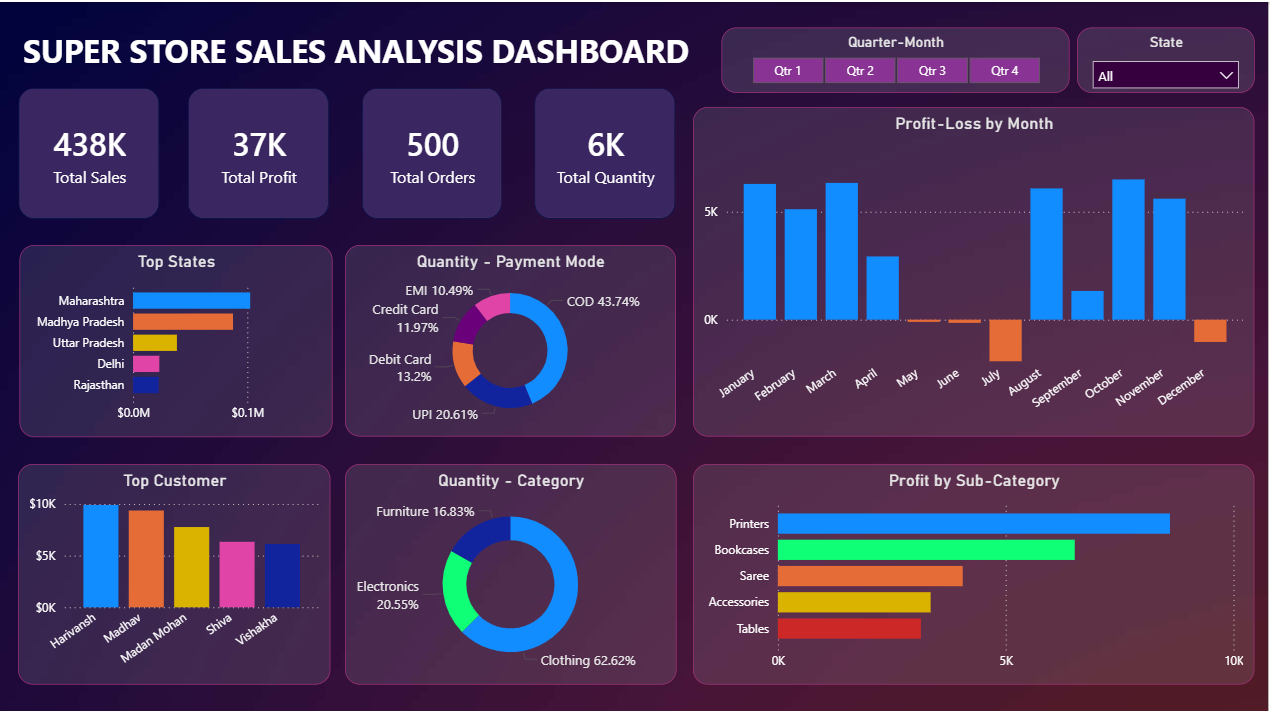

The dashboard page shown, as its layout file describes it:
{"tool":"powerbi","page":{"name":"Page 1","canvas":[1280,720],"ordinal":0},"visuals":[{"type":"columnChart","title":"Profit-Loss by Month","fields":{"Y":["Sum(Details.Profit)"],"Category":["Orders.Order Date.Variation.Date Hierarchy.Month"]},"box":[699.2,105.8,566.9,332.6],"z":0},{"type":"barChart","title":"Profit by Sub-Category","fields":{"Category":["Details.Sub-Category"],"Y":["Sum(Details.Profit)"]},"box":[699.2,466.8,566.9,223],"z":1000},{"type":"donutChart","title":"Quantity - Category","fields":{"Category":["Details.Category"],"Y":["Sum(Details.Quantity)"]},"box":[347.7,466.8,334.5,223],"z":2000},{"type":"donutChart","title":"Quantity - Payment Mode","fields":{"Y":["Sum(Details.Quantity)"],"Category":["Details.PaymentMode"]},"box":[348,245,334,193],"z":3000},{"type":"cardVisual","fields":{"Data":["Details.Total Sales"]},"box":[1,70,176,166],"z":4000},{"type":"cardVisual","fields":{"Data":["Details.Total Profit"]},"box":[172,70,176,166],"z":5000},{"type":"cardVisual","fields":{"Data":["Details.Total Orders"]},"box":[348,70,175,166],"z":6000},{"type":"cardVisual","fields":{"Data":["Details.Total Quantity"]},"box":[523,70,176,166],"z":7000},{"type":"barChart","title":"Top States","fields":{"Category":["Orders.State"],"Y":["Sum(Details.Amount)"]},"box":[19,245,316,194],"z":8000},{"type":"clusteredColumnChart","title":"Top Customer","fields":{"Category":["Orders.CustomerName"],"Y":["Sum(Details.Amount)"]},"box":[18.9,466.8,315.6,223],"z":9000},{"type":"textbox","box":[18.9,13.2,708.7,79.4],"z":10000},{"type":"slicer","title":"Quarter-Month","fields":{"Values":["Orders.Order Date.Variation.Date Hierarchy.Quarter"]},"box":[728,26,351,66],"z":11000},{"type":"slicer","title":"State","fields":{"Values":["Orders.State"]},"box":[1087,26,179,66],"z":12000}]}

Visuals, with their boxes in screenshot pixels (x1, y1, x2, y2), scaled from the page's 1280x720 canvas onto the 1270x711 screenshot:
"Profit-Loss by Month" columnChart: (694, 104, 1256, 433)
"Profit by Sub-Category" barChart: (694, 461, 1256, 681)
"Quantity - Category" donutChart: (345, 461, 677, 681)
"Quantity - Payment Mode" donutChart: (345, 242, 677, 433)
cardVisual - Details.Total Sales: (1, 69, 176, 233)
cardVisual - Details.Total Profit: (171, 69, 345, 233)
cardVisual - Details.Total Orders: (345, 69, 519, 233)
cardVisual - Details.Total Quantity: (519, 69, 694, 233)
"Top States" barChart: (19, 242, 332, 434)
"Top Customer" clusteredColumnChart: (19, 461, 332, 681)
textbox: (19, 13, 722, 91)
"Quarter-Month" slicer: (722, 26, 1071, 91)
"State" slicer: (1079, 26, 1256, 91)
